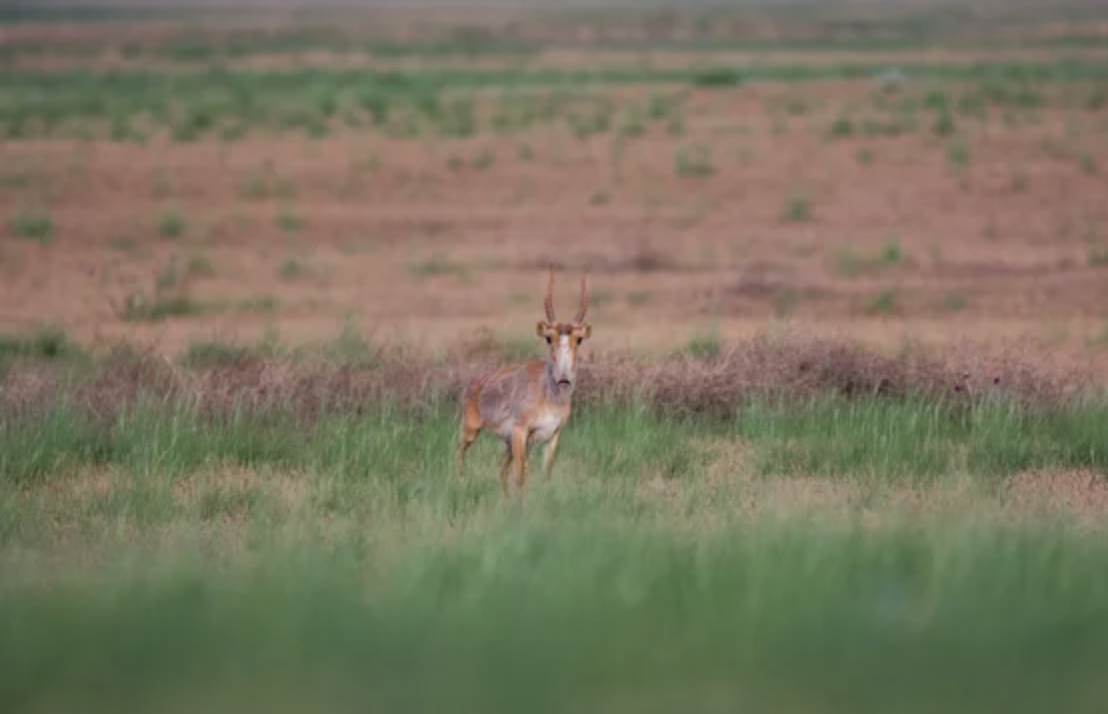saiga: (456, 257, 595, 462)
